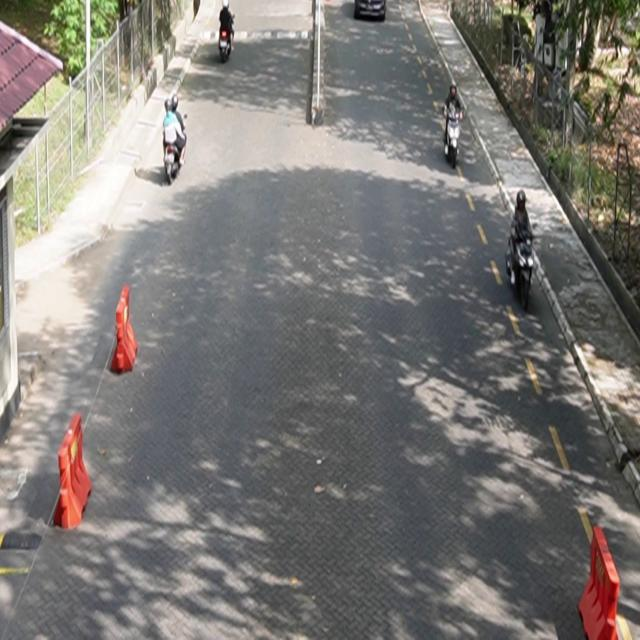car: (355, 1, 388, 22)
